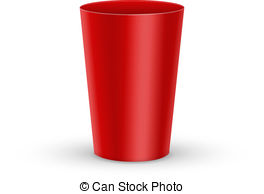plastic_glass: (77, 1, 193, 168)
